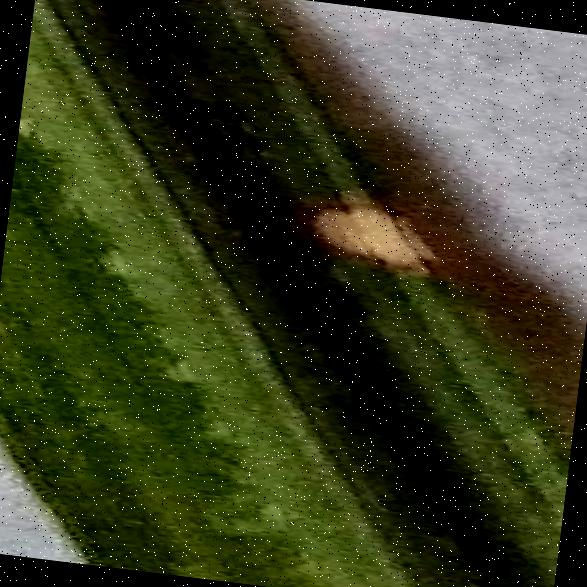Leaf_smut: (295, 178, 444, 288)
